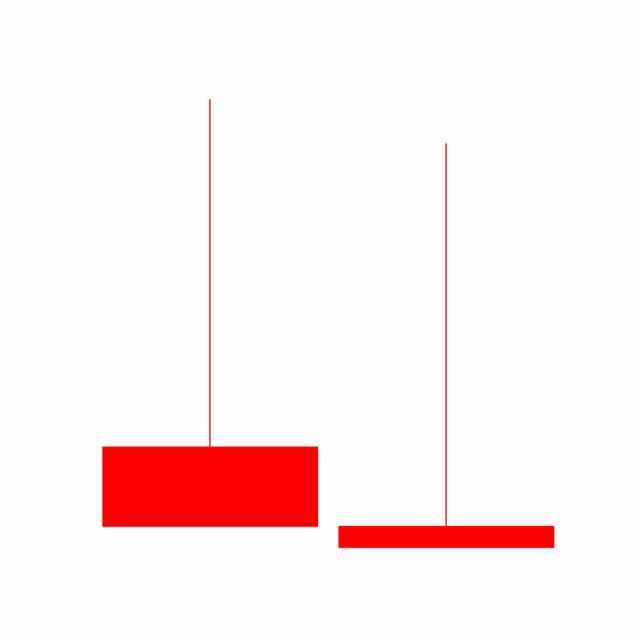Gravestone Doji: (328, 139, 566, 553)
